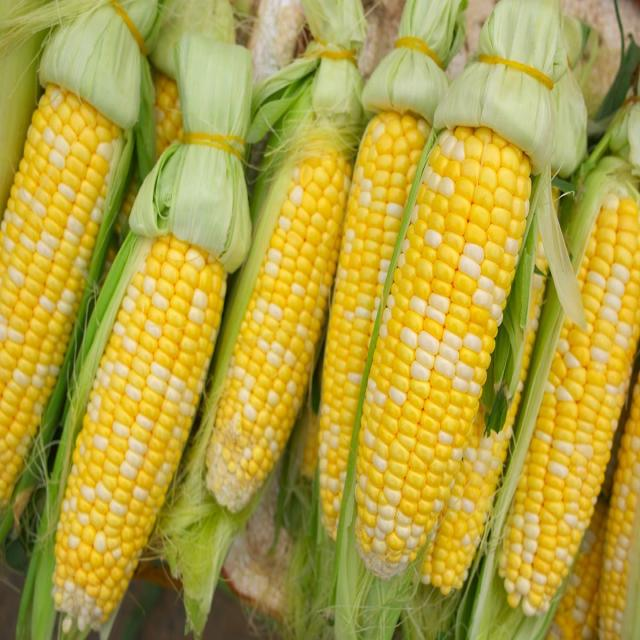corn: (42, 221, 242, 640), (351, 113, 529, 581), (0, 69, 152, 515), (510, 165, 640, 640), (212, 109, 351, 525)
